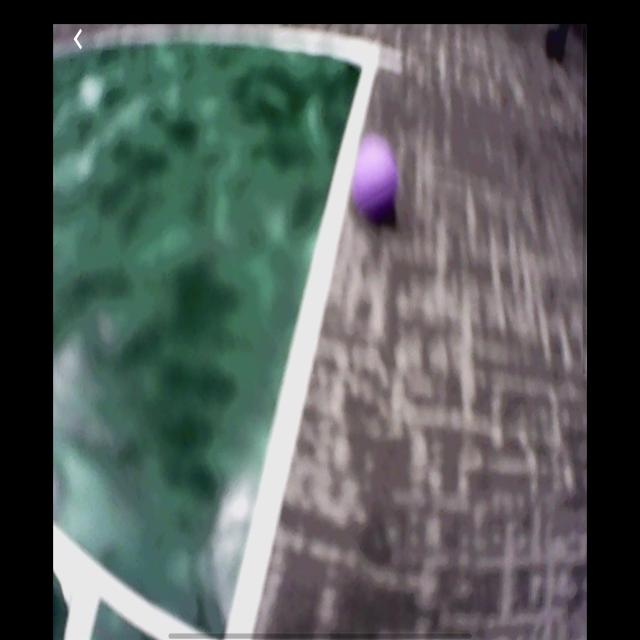ball: (350, 132, 400, 229)
